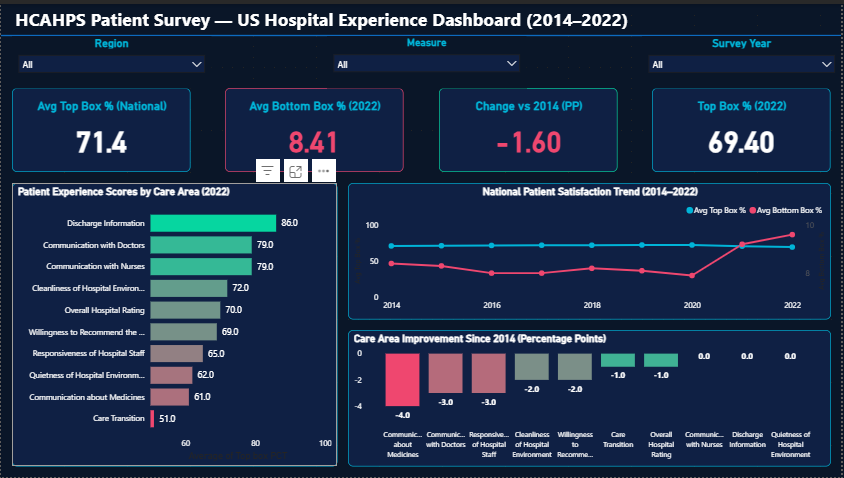

The dashboard page shown, as its layout file describes it:
{"tool":"powerbi","page":{"name":"Page 1","canvas":[1280,720],"ordinal":0},"visuals":[{"type":"textbox","box":[16,0,1216,128],"z":0},{"type":"shape","box":[0,0,1280,96],"z":1000},{"type":"card","title":"Avg Top Box % (National)","fields":{"Values":["National Masters.Avg Top Box %"]},"box":[16,128,272,128],"z":2000},{"type":"card","title":"Avg Bottom Box % (2022)","fields":{"Values":["National Masters.Avg Bottom Box %"]},"box":[341.3,128,272,128],"z":3000},{"type":"card","title":"Change vs 2014 (PP)","fields":{"Values":["National Masters.Improvement vs 2014"]},"box":[666.7,128,272,128],"z":4000},{"type":"card","title":"Top Box % (2022)","fields":{"Values":["National Masters.Top Box 2022"]},"box":[992,128,272,128],"z":5000},{"type":"lineChart","title":"National Patient Satisfaction Trend (2014–2022)","fields":{"Category":["National Masters.Survey Year"],"Y":["National Masters.Avg Top Box %"],"Y2":["National Masters.Avg Bottom Box %"]},"box":[528,272,752,208],"z":6000},{"type":"clusteredBarChart","title":"Patient Experience Scores by Care Area (2022)","fields":{"Category":["National Masters.measures Measure"],"Y":["Avg(National Masters.Top box PCT)"]},"box":[16,272,496,432],"z":7000},{"type":"clusteredColumnChart","title":"Care Area Improvement Since 2014 (Percentage Points)","fields":{"Category":["National Masters.measures Measure"],"Y":["National Masters.Improvement vs 2014"]},"box":[528,496,752,208],"z":8000},{"type":"slicer","title":"Survey Year","fields":{"Values":["state_master.reports.Year"]},"box":[976,48,304,80],"z":8001},{"type":"slicer","title":"Measure","fields":{"Values":["National Masters.measures Measure"]},"box":[496,48,304,80],"z":8002},{"type":"slicer","title":"Region","fields":{"Values":["state_master.states.Region"]},"box":[16,48,304,80],"z":8003}]}

Visuals, with their boxes in screenshot pixels (x1, y1, x2, y2), scaled from the page's 1280x720 canvas onto the 844x478 screenshot:
textbox: x1=11 y1=0 x2=812 y2=85
shape: x1=0 y1=0 x2=843 y2=64
"Avg Top Box % (National)" card: x1=11 y1=85 x2=190 y2=170
"Avg Bottom Box % (2022)" card: x1=225 y1=85 x2=404 y2=170
"Change vs 2014 (PP)" card: x1=440 y1=85 x2=619 y2=170
"Top Box % (2022)" card: x1=654 y1=85 x2=833 y2=170
"National Patient Satisfaction Trend (2014–2022)" lineChart: x1=348 y1=181 x2=843 y2=319
"Patient Experience Scores by Care Area (2022)" clusteredBarChart: x1=11 y1=181 x2=338 y2=467
"Care Area Improvement Since 2014 (Percentage Points)" clusteredColumnChart: x1=348 y1=329 x2=843 y2=467
"Survey Year" slicer: x1=644 y1=32 x2=843 y2=85
"Measure" slicer: x1=327 y1=32 x2=528 y2=85
"Region" slicer: x1=11 y1=32 x2=211 y2=85
